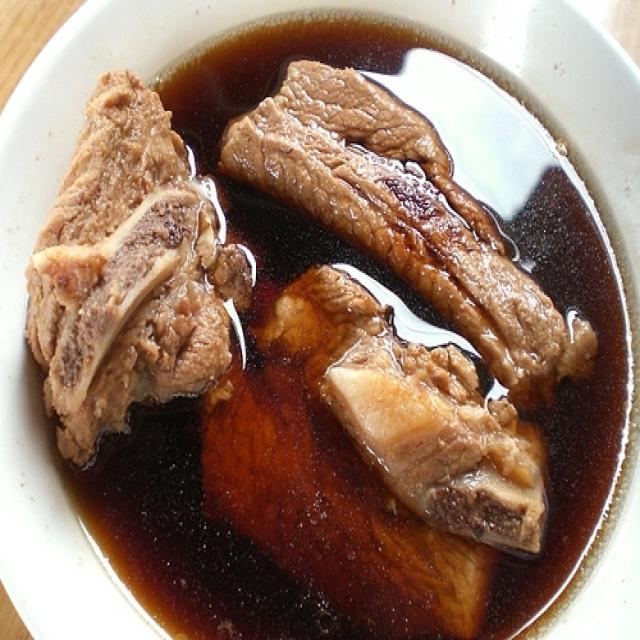汤锅炖物: (19, 20, 631, 618)
